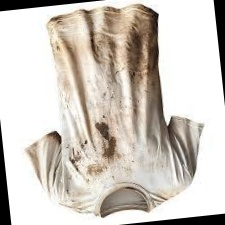earth: (121, 7, 161, 92), (95, 122, 118, 165), (93, 33, 119, 65), (70, 139, 88, 166), (86, 163, 105, 176)
